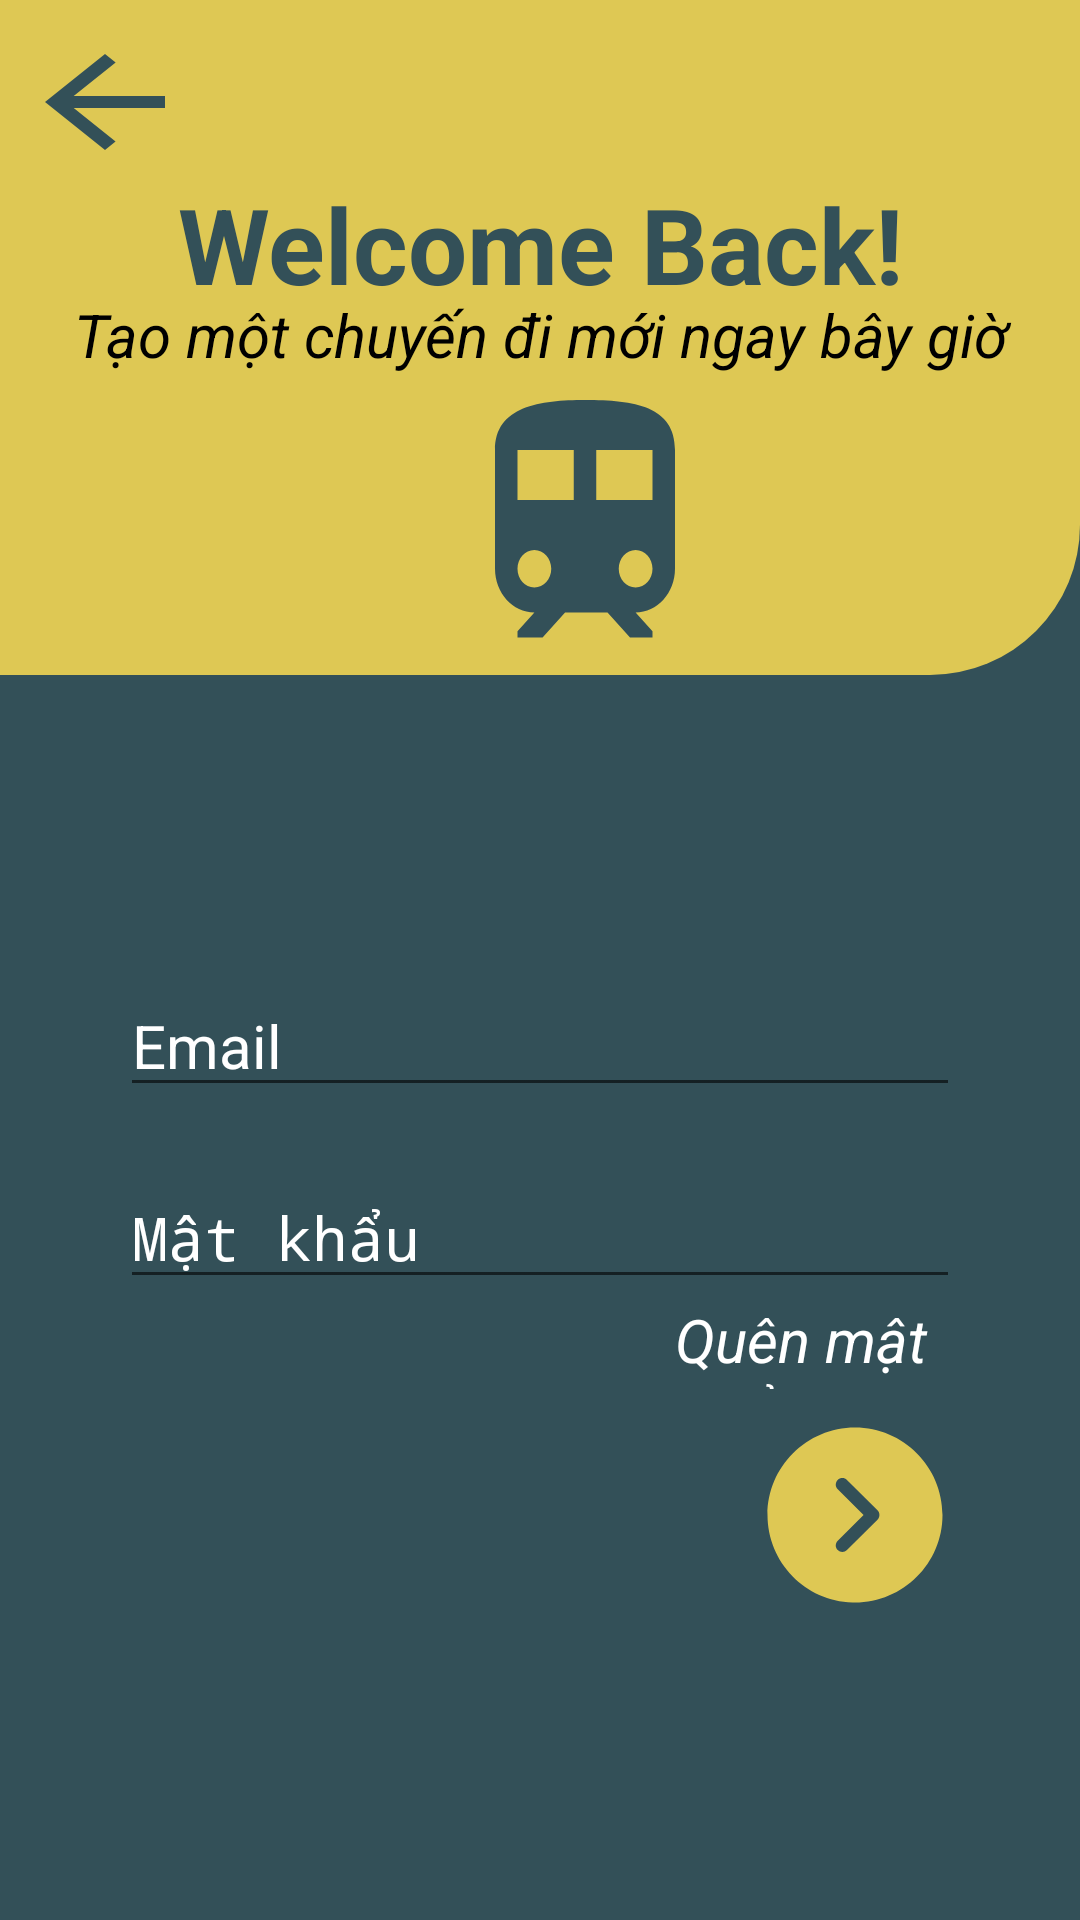

Icons on this 1080 × 1920 Android screen, each with the point to tap as [x,y]:
arrow back: [105,102]
arrow right circle: [855,1515]
train: [585,519]
